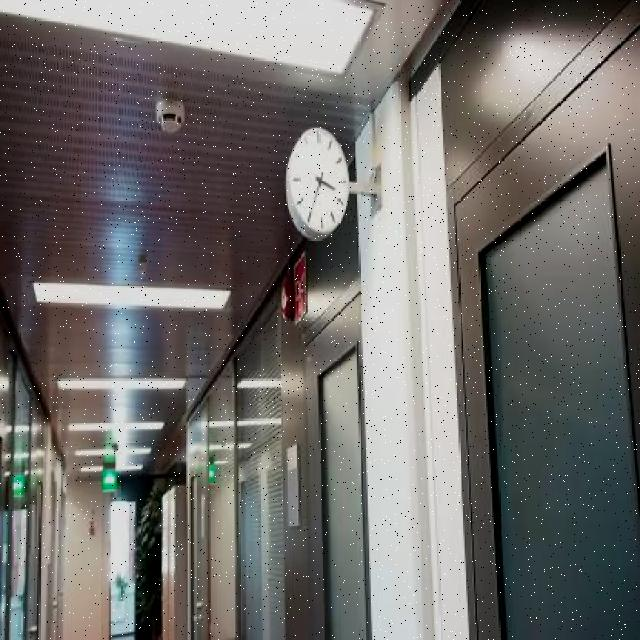emergency_exit: (284, 125, 352, 242), (280, 248, 308, 323), (101, 429, 118, 493)
